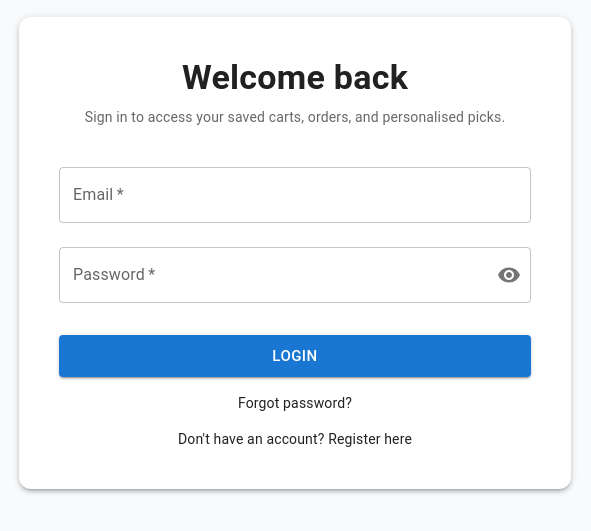
Test case: <Login /> › displays concatenated validation errors from server
Type "u@e.com" into the field labelled "Email *".
click(295, 195); type("u@e.com")  # box [59, 167, 531, 223]
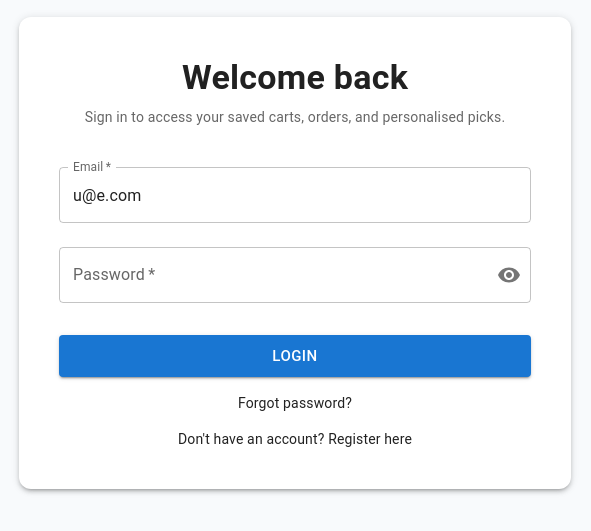
Type "secret" into the password field labelled "Password *".
click(270, 275); type("secret")  # box [59, 247, 481, 303]
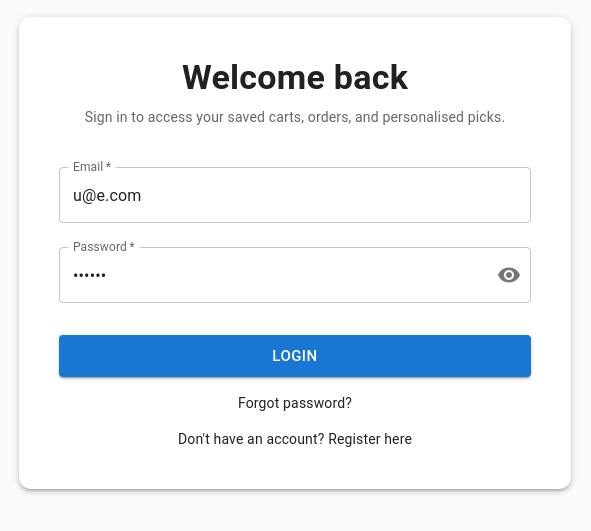
Click the button "Login".
click(295, 356)  # box [59, 335, 531, 377]
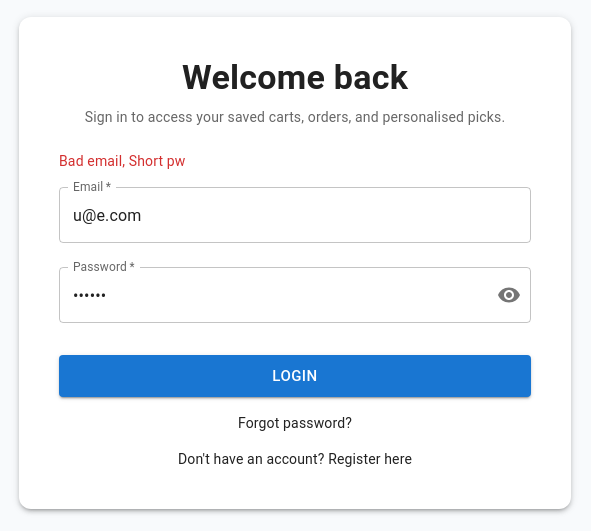
Check: the text "Bad email, Short pw" is shown, box [59, 153, 185, 169]
